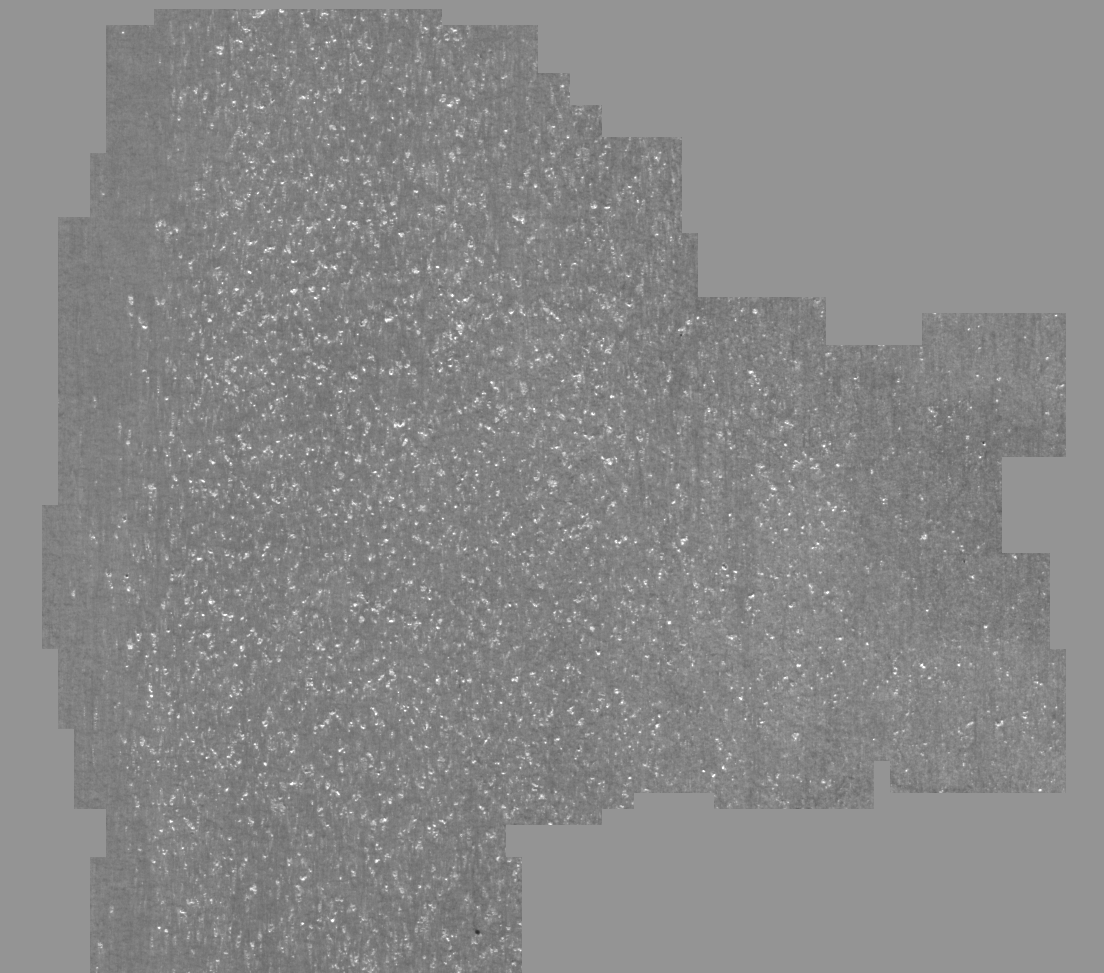oxl: (35, 10, 1069, 963)
